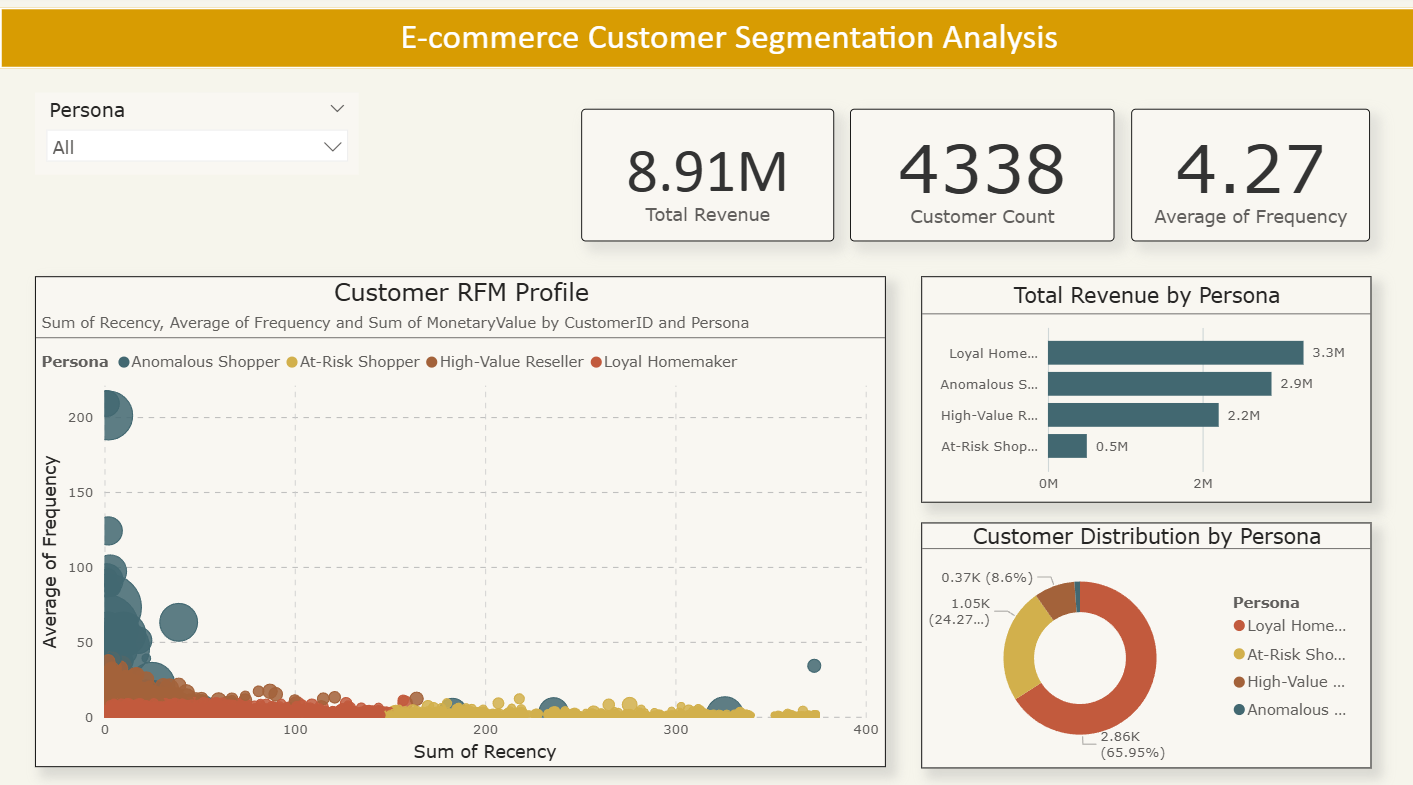

Layout of this report page (visuals, bound fields, positions):
{"tool":"powerbi","page":{"name":"Page 1","canvas":[1280,720],"ordinal":0},"visuals":[{"type":"card","fields":{"Values":["Key Measures.Total Revenue"]},"box":[525.4,102.4,229.1,119.8],"z":0},{"type":"card","fields":{"Values":["Key Measures.Customer Count"]},"box":[769,102.4,239.5,119.8],"z":1000},{"type":"card","fields":{"Values":["Avg(customer_segments_final.Frequency)"]},"box":[1023.1,102.4,216.3,119.8],"z":2000},{"type":"barChart","title":"Total Revenue by Persona","fields":{"Category":["customer_segments_final.Persona"],"Y":["Sum(customer_segments_final.MonetaryValue)"]},"box":[833.7,254.7,407,204.7],"z":3000},{"type":"donutChart","title":"Customer Distribution by Persona","fields":{"Category":["customer_segments_final.Persona"],"Y":["Count(customer_segments_final.CustomerID)"]},"box":[833.7,476.7,407,222.1],"z":4000},{"type":"scatterChart","title":"Customer RFM Profile","fields":{"Series":["customer_segments_final.Persona"],"Size":["Sum(customer_segments_final.MonetaryValue)"],"Category":["customer_segments_final.CustomerID"],"X":["Sum(customer_segments_final.Recency)"],"Y":["Avg(customer_segments_final.Frequency)"]},"box":[31.4,254.7,769.8,444.2],"z":5000},{"type":"slicer","fields":{"Values":["customer_segments_final.Persona"]},"box":[31.4,88.4,293,74.4],"z":6000},{"type":"textbox","box":[31.4,16.3,1209.3,54.7],"z":7000}]}

Visuals, with their boxes in screenshot pixels (x1, y1, x2, y2), scaled from the page's 1280x720 canvas onto the 1413x785 screenshot:
card - Key Measures.Total Revenue: pyautogui.locateOnScreen(580, 112, 833, 242)
card - Key Measures.Customer Count: pyautogui.locateOnScreen(849, 112, 1113, 242)
card - Avg(customer_segments_final.Frequency): pyautogui.locateOnScreen(1129, 112, 1368, 242)
"Total Revenue by Persona" barChart: pyautogui.locateOnScreen(920, 278, 1370, 501)
"Customer Distribution by Persona" donutChart: pyautogui.locateOnScreen(920, 520, 1370, 762)
"Customer RFM Profile" scatterChart: pyautogui.locateOnScreen(35, 278, 884, 762)
slicer - customer_segments_final.Persona: pyautogui.locateOnScreen(35, 96, 358, 177)
textbox: pyautogui.locateOnScreen(35, 18, 1370, 77)
